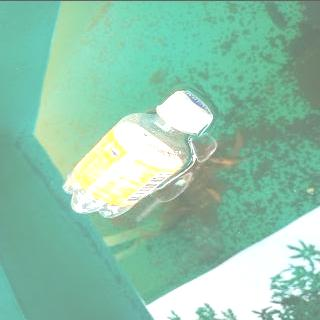bottle: (60, 88, 215, 219)
